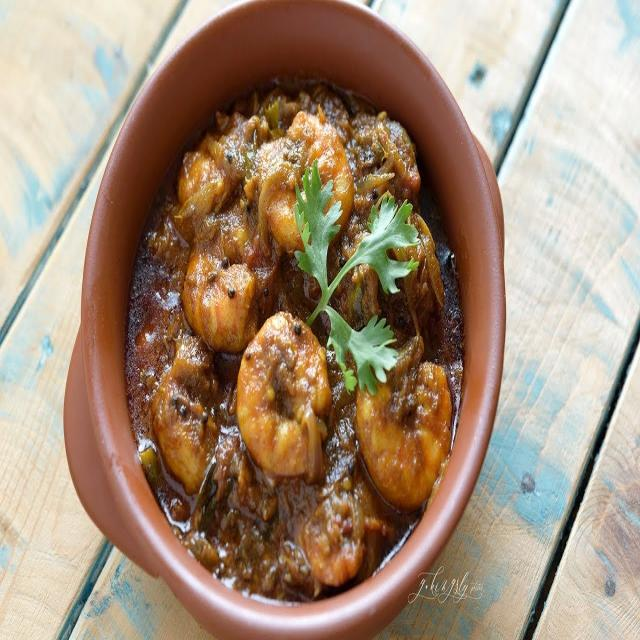prawn thokku: (121, 69, 471, 580)
